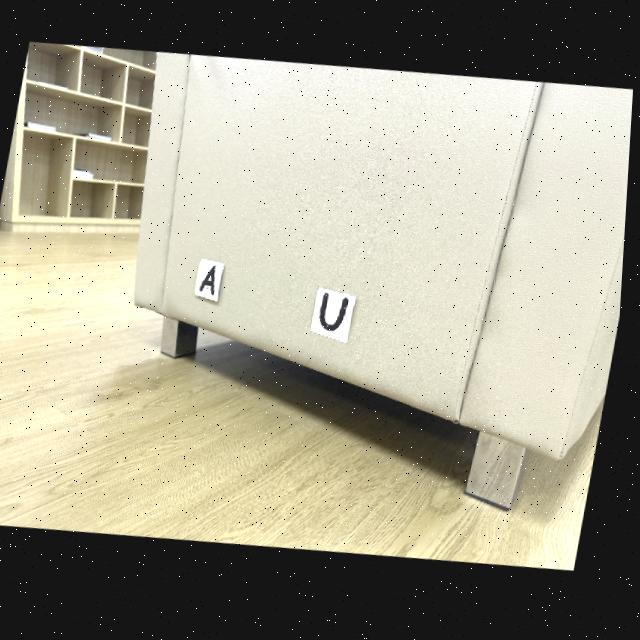A: (203, 267, 219, 297)
U: (323, 296, 352, 335)
